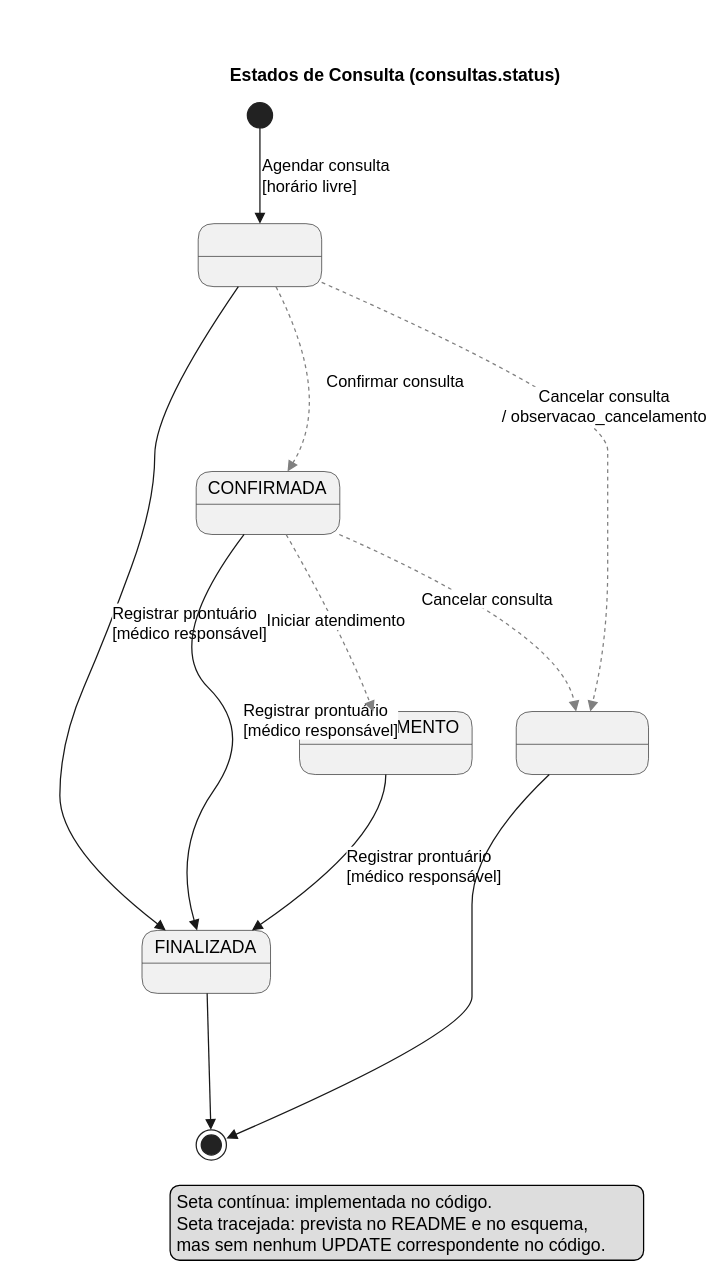
Image size: 728x1283. Some labels were removed from this diagram. Each missing label, with the box of its shape:
AGENDADA: (197, 223, 321, 286)
CANCELADA: (515, 711, 648, 774)
